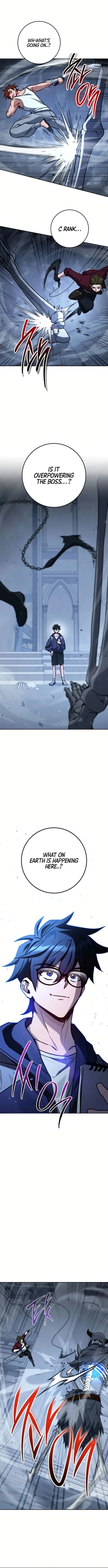bubbles: (19, 441, 88, 510), (20, 826, 88, 895), (15, 20, 61, 67), (50, 209, 90, 250)
